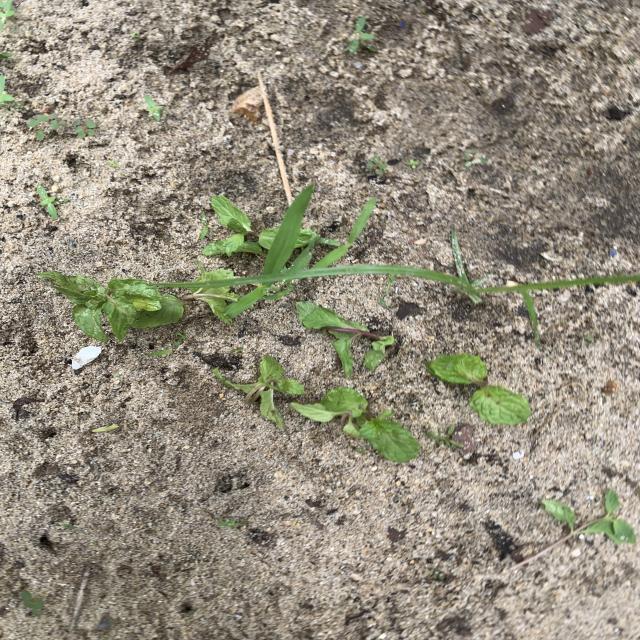crop: (511, 489, 637, 569), (291, 387, 419, 463), (39, 272, 162, 341), (426, 353, 531, 426), (296, 302, 394, 378), (213, 355, 304, 429), (203, 195, 280, 257), (133, 286, 240, 329)
weed: (345, 255, 640, 335), (336, 198, 376, 259), (226, 284, 292, 318), (346, 16, 378, 55), (426, 424, 463, 449), (19, 588, 47, 617), (148, 336, 185, 357), (36, 185, 57, 220), (378, 275, 398, 310), (66, 119, 99, 140), (364, 156, 388, 183), (144, 95, 164, 121), (194, 210, 209, 244), (0, 75, 14, 106), (217, 518, 248, 530), (90, 424, 120, 434), (106, 158, 120, 173), (403, 157, 419, 170), (0, 51, 11, 59)
